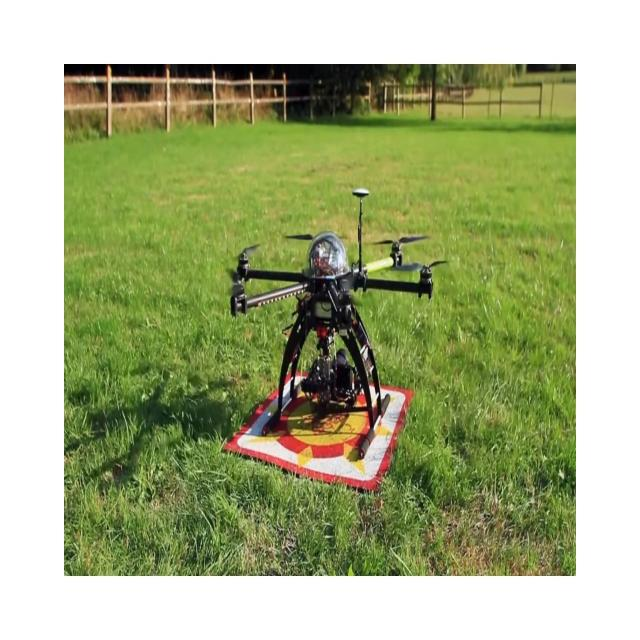drone: (228, 187, 450, 461)
